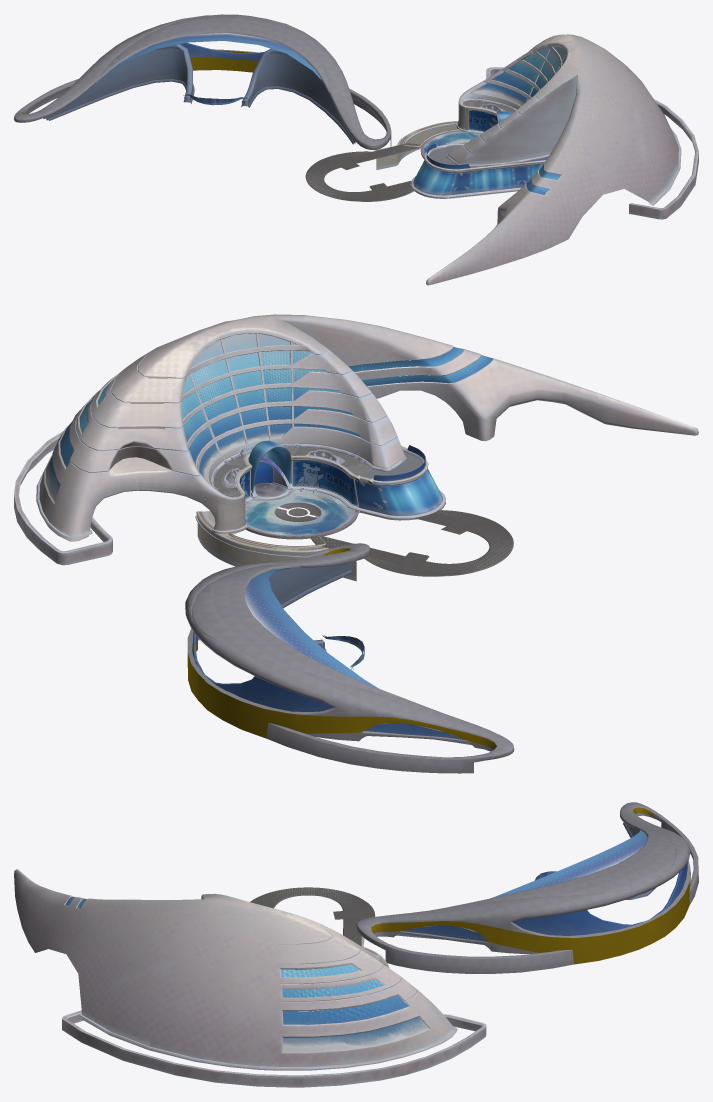
The model's file is pref_sm_beach_bk_winter_pointmol_leftbuild_lv1.fbx.
3 renders of one model, top to bottom at view 1: azimuth 30°, elevation 25°; view 2: azimuth 150°, elevation 25°; view 3: azimuth 270°, elevation 25°, orthographic. The views are drawn at different scales.
Parts seen in each view (by area): view 1: sm_beach_bk_winter_pointmol_leftbuild01a_lv1, sm_beach_bk_winter_pointmol_leftbuild02a_lv1, sm_beach_bk_winter_pointmol_leftbuild02b_lv1, sm_beach_bk_winter_pointmol_leftbuild01b_lv1, sm_beach_winter_pointmol_techborn02_lv1, sm_beach_bk_winter_pointmol_leftbuild02c_lv1, sm_beach_bk_winter_pointmol_leftbuild01d_lv1, sm_beach_bk_winter_pointmol_leftbuild01e_lv1, sm_beach_bk_winter_pointmol_leftbuild01c_lv1; view 2: sm_beach_bk_winter_pointmol_leftbuild01a_lv1, sm_beach_bk_winter_pointmol_leftbuild02a_lv1, sm_beach_bk_winter_pointmol_leftbuild01b_lv1, sm_beach_bk_winter_pointmol_leftbuild02b_lv1, sm_beach_winter_pointmol_techborn02_lv1, sm_beach_bk_winter_pointmol_leftbuild02c_lv1, sm_beach_bk_winter_pointmol_leftbuild01d_lv1, sm_beach_bk_winter_pointmol_leftbuild01e_lv1, sm_beach_bk_winter_pointmol_leftbuild01c_lv1; view 3: sm_beach_bk_winter_pointmol_leftbuild01a_lv1, sm_beach_bk_winter_pointmol_leftbuild02a_lv1, sm_beach_bk_winter_pointmol_leftbuild02b_lv1, sm_beach_bk_winter_pointmol_leftbuild01b_lv1, sm_beach_bk_winter_pointmol_leftbuild02c_lv1, sm_beach_winter_pointmol_techborn02_lv1.
Boxes of the visible parts, box(x1,y1,x2,y2) form: sm_beach_bk_winter_pointmol_leftbuild01a_lv1: box(411, 34, 698, 285); sm_beach_bk_winter_pointmol_leftbuild02a_lv1: box(14, 14, 391, 150); sm_beach_bk_winter_pointmol_leftbuild02b_lv1: box(21, 44, 355, 144); sm_beach_bk_winter_pointmol_leftbuild01b_lv1: box(413, 46, 566, 195); sm_beach_winter_pointmol_techborn02_lv1: box(305, 100, 514, 201); sm_beach_bk_winter_pointmol_leftbuild02c_lv1: box(108, 33, 322, 105); sm_beach_bk_winter_pointmol_leftbuild01d_lv1: box(375, 121, 459, 169); sm_beach_bk_winter_pointmol_leftbuild01e_lv1: box(423, 131, 480, 154); sm_beach_bk_winter_pointmol_leftbuild01c_lv1: box(469, 110, 497, 131); sm_beach_bk_winter_pointmol_leftbuild01a_lv1: box(14, 314, 698, 565); sm_beach_bk_winter_pointmol_leftbuild02a_lv1: box(185, 543, 514, 773); sm_beach_bk_winter_pointmol_leftbuild01b_lv1: box(46, 333, 492, 515); sm_beach_bk_winter_pointmol_leftbuild02b_lv1: box(187, 548, 496, 749); sm_beach_winter_pointmol_techborn02_lv1: box(214, 446, 513, 576); sm_beach_bk_winter_pointmol_leftbuild02c_lv1: box(192, 568, 465, 740); sm_beach_bk_winter_pointmol_leftbuild01d_lv1: box(195, 510, 356, 581); sm_beach_bk_winter_pointmol_leftbuild01e_lv1: box(245, 490, 355, 535); sm_beach_bk_winter_pointmol_leftbuild01c_lv1: box(239, 460, 357, 505); sm_beach_bk_winter_pointmol_leftbuild01a_lv1: box(14, 869, 486, 1087); sm_beach_bk_winter_pointmol_leftbuild02a_lv1: box(356, 802, 698, 973); sm_beach_bk_winter_pointmol_leftbuild02b_lv1: box(371, 807, 690, 964); sm_beach_bk_winter_pointmol_leftbuild01b_lv1: box(65, 897, 428, 1051); sm_beach_bk_winter_pointmol_leftbuild02c_lv1: box(401, 830, 687, 941); sm_beach_winter_pointmol_techborn02_lv1: box(250, 887, 375, 946).
Bounding box in the file's own units: 85.69 × 19.41 × 90.3.
